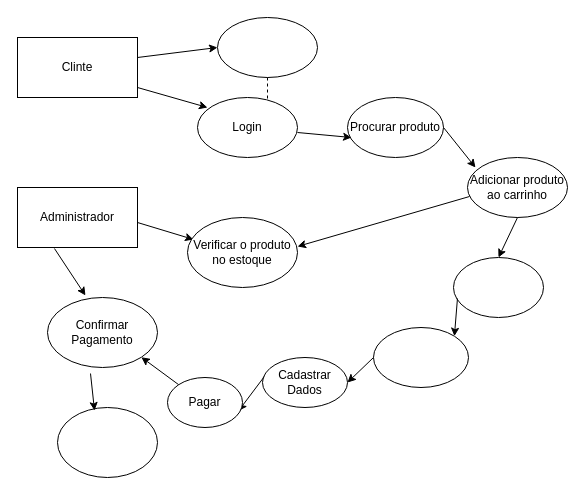
The diagram is 585 pixels wide and 495 high, and some of its shapes have lost their labels. Here are the shapes that lost their labels. From the top down, the box of each, then its label:
(216, 16, 318, 78): Cadastro
(452, 256, 544, 318): Finalizar Compra
(372, 326, 468, 388): Formas de pagamento
(56, 406, 158, 478): Enviar Produto
